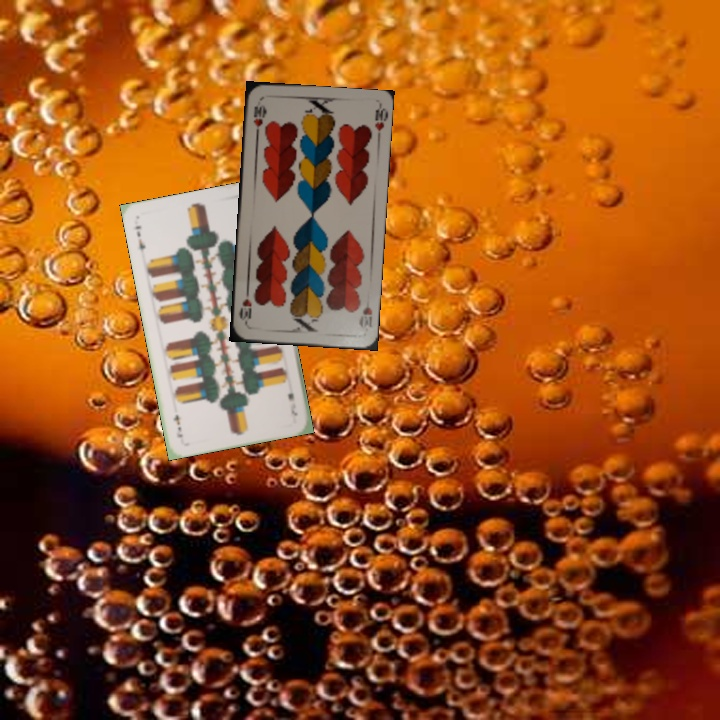E7: (131, 221, 148, 253), (284, 388, 300, 419)
H10: (355, 296, 375, 331), (249, 101, 267, 137)
